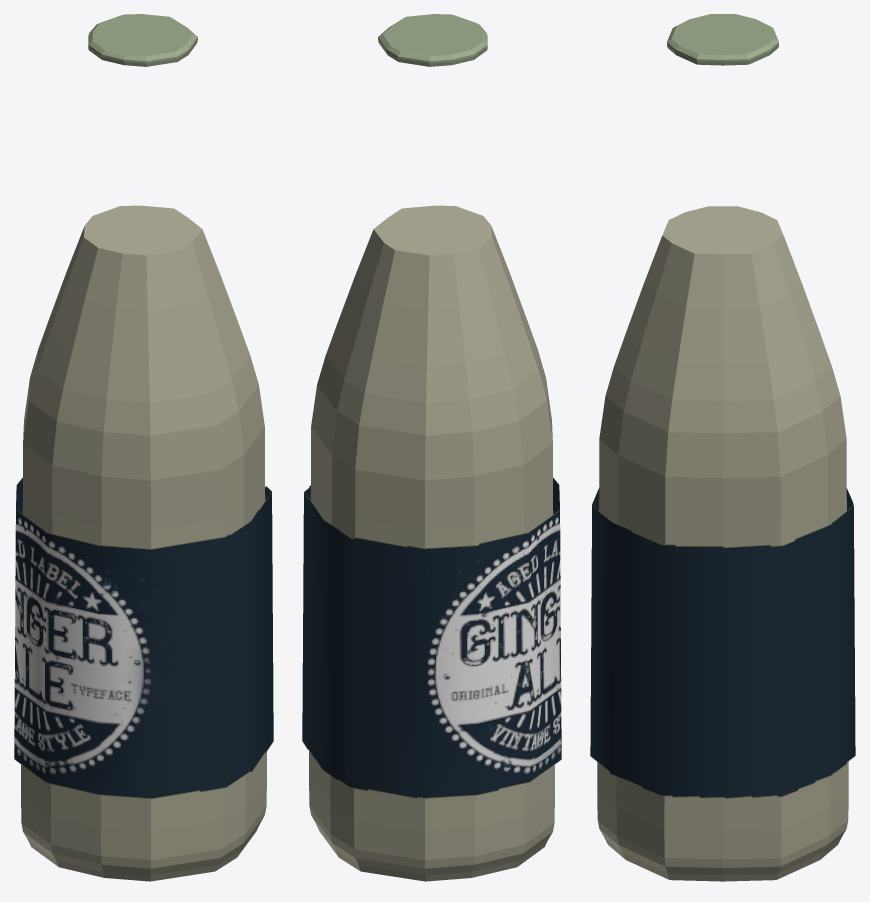
The model's file is Gingerale.fbx.
3 renders of one model, left to right at view 1: azimuth 30°, elevation 25°; view 2: azimuth 150°, elevation 25°; view 3: azimuth 270°, elevation 25°, orthographic.
Visible parts, largest first — view 1: Liquid, Lable, Bottle_cap; view 2: Liquid, Lable, Bottle_cap, Bottle_glass; view 3: Liquid, Lable, Bottle_cap, Bottle_glass.
Part boxes in pixels (<box>): Liquid: <box>21,205,266,881</box>; Lable: <box>14,477,273,798</box>; Bottle_cap: <box>88,14,197,66</box>; Liquid: <box>309,205,554,881</box>; Lable: <box>302,477,561,798</box>; Bottle_cap: <box>378,14,487,66</box>; Bottle_glass: <box>302,485,561,798</box>; Liquid: <box>597,206,848,881</box>; Lable: <box>590,488,855,797</box>; Bottle_cap: <box>667,14,778,65</box>; Bottle_glass: <box>590,487,855,798</box>.
Size of the model in its own units: 0.0505 by 0.1785 by 0.0532.
2 materials, 2 textured.
